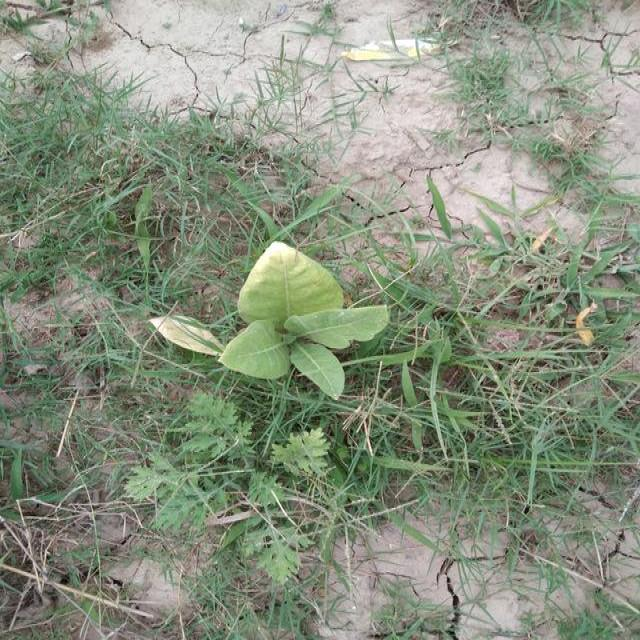crop: (146, 226, 402, 407)
